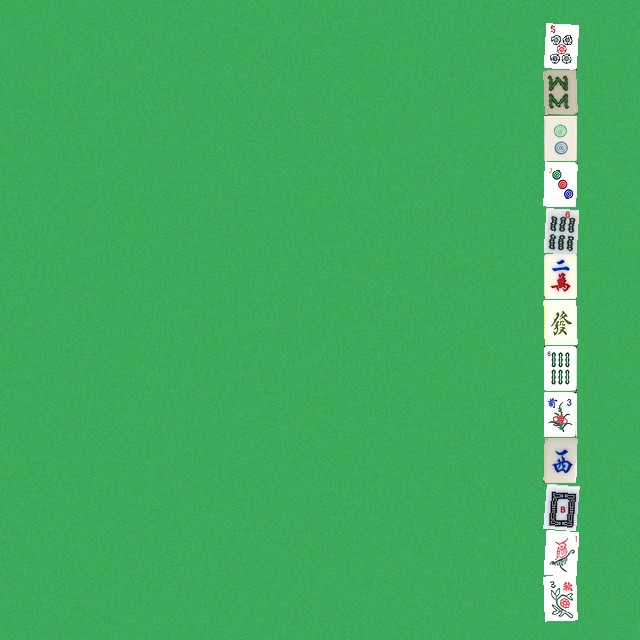tile: (543, 23, 576, 68), (543, 69, 576, 114), (543, 115, 576, 160), (543, 161, 576, 206), (543, 207, 576, 252), (543, 253, 576, 298), (543, 299, 576, 344), (543, 345, 576, 390), (543, 391, 576, 436), (543, 437, 576, 482), (543, 483, 576, 528), (543, 529, 576, 574), (543, 575, 576, 620)
